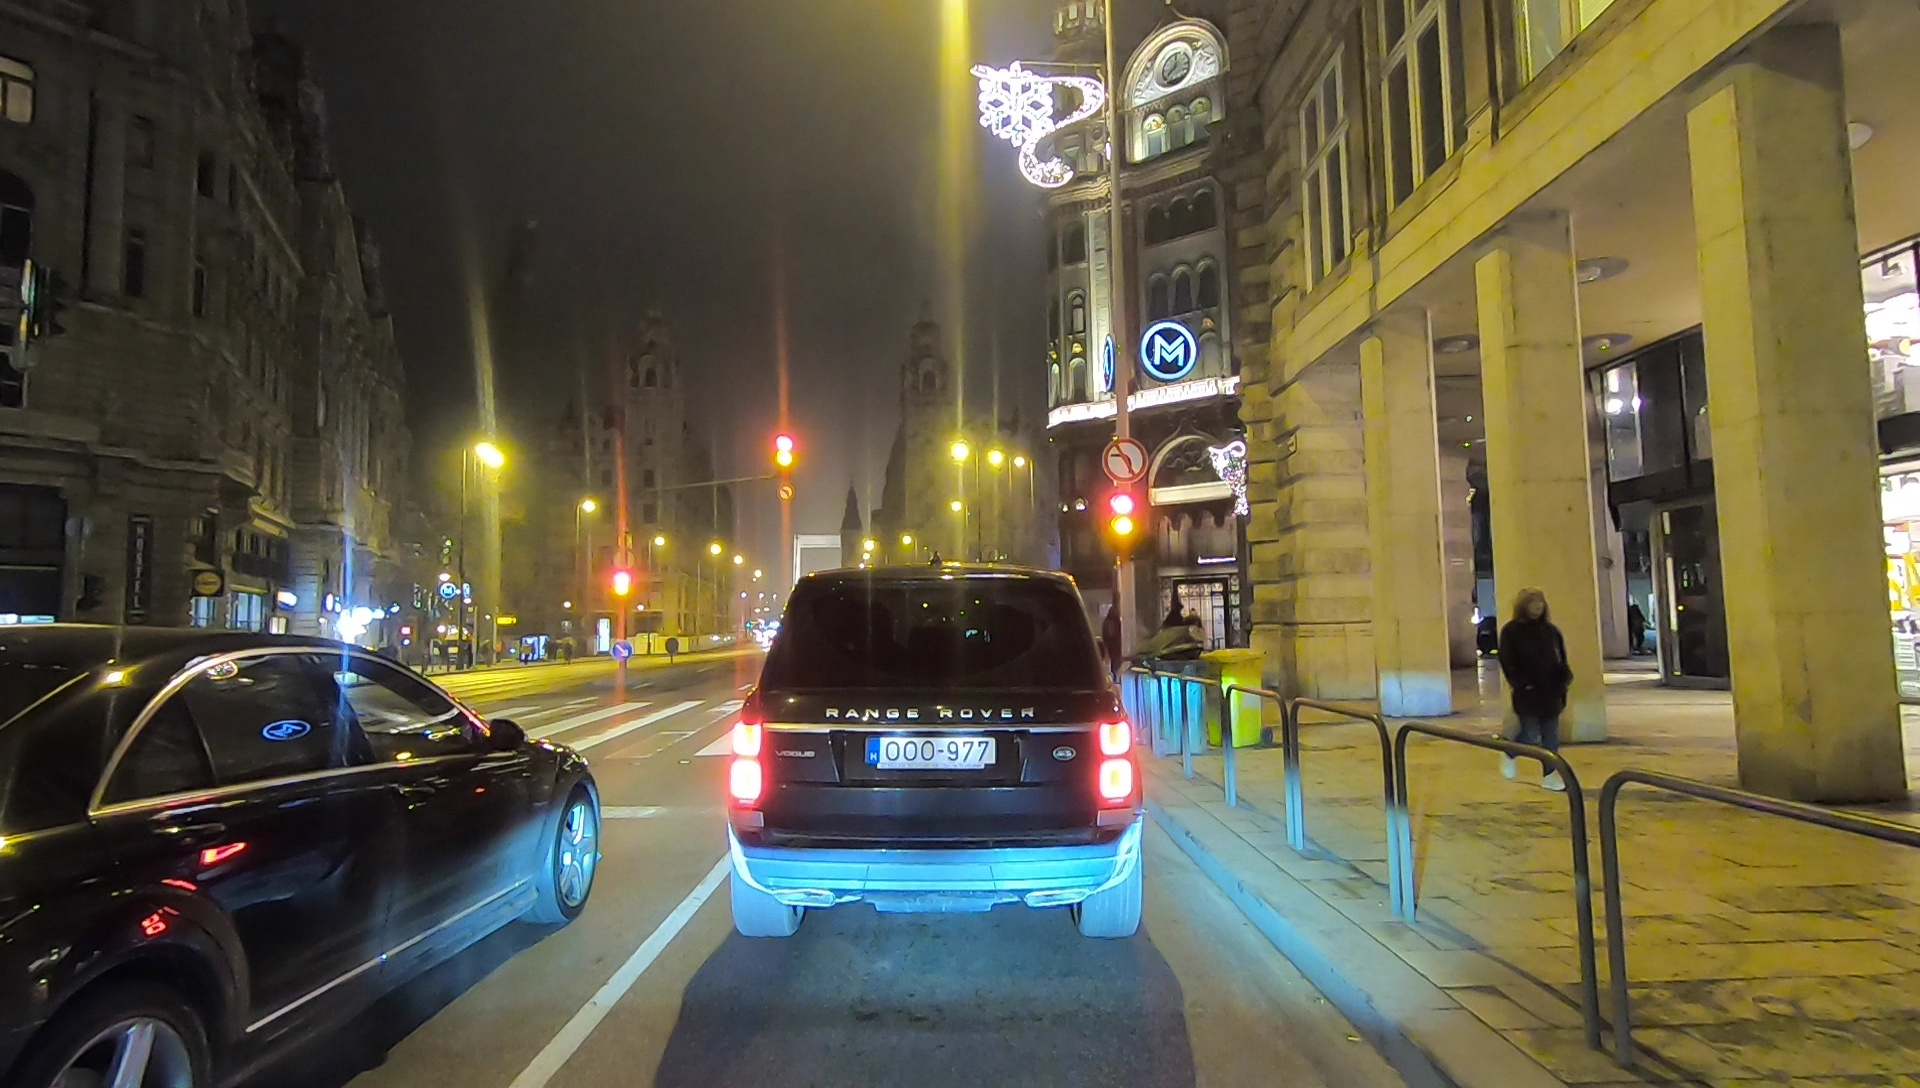person: (1493, 595, 1576, 786)
